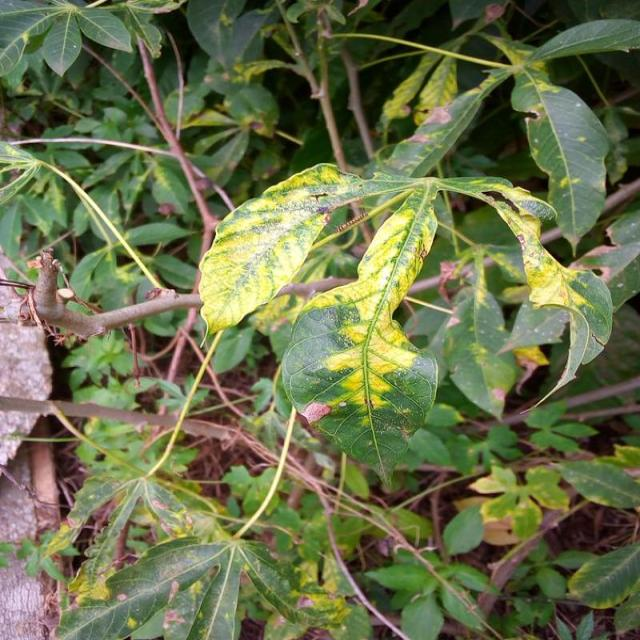cassava leaf: (197, 159, 608, 485), (280, 184, 440, 486), (510, 74, 610, 255)
